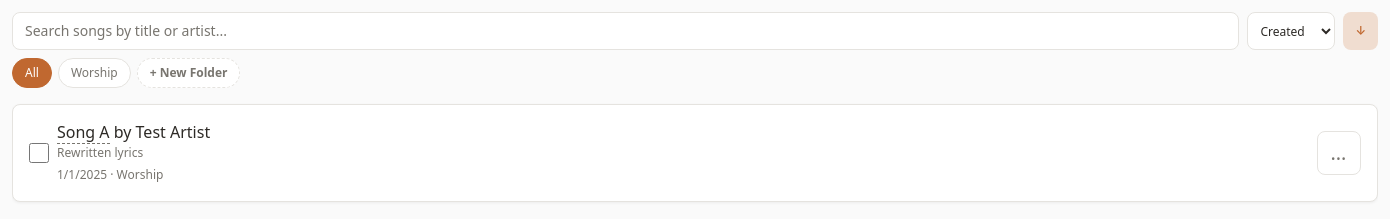
Test: LibraryTab folder pills › right-clicking a folder pill opens the context dropdown menu
This screenshot has width=1390, height=219.
Expected: the text "Song A" is shown, [57,121,110,144]
// Right-click the "Worship" folder pill
Right-click the button with test id "folder-pill-Worship" at x=94, y=73, box [58,58,131,88]
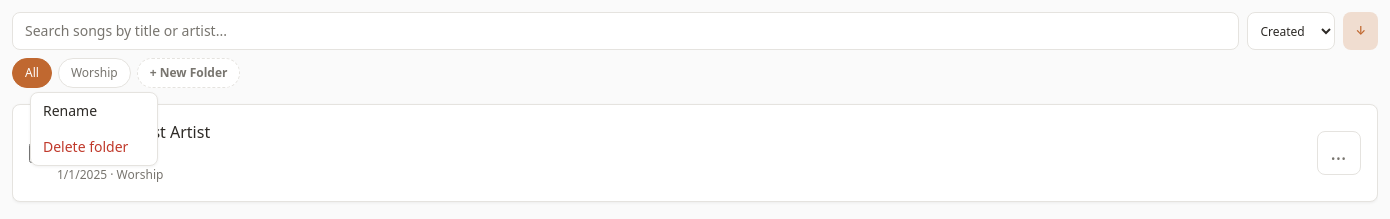
Result: the menu item "Rename" is shown at [43,101,97,120]
Result: the menu item "Delete folder" is shown at [43,137,128,156]
